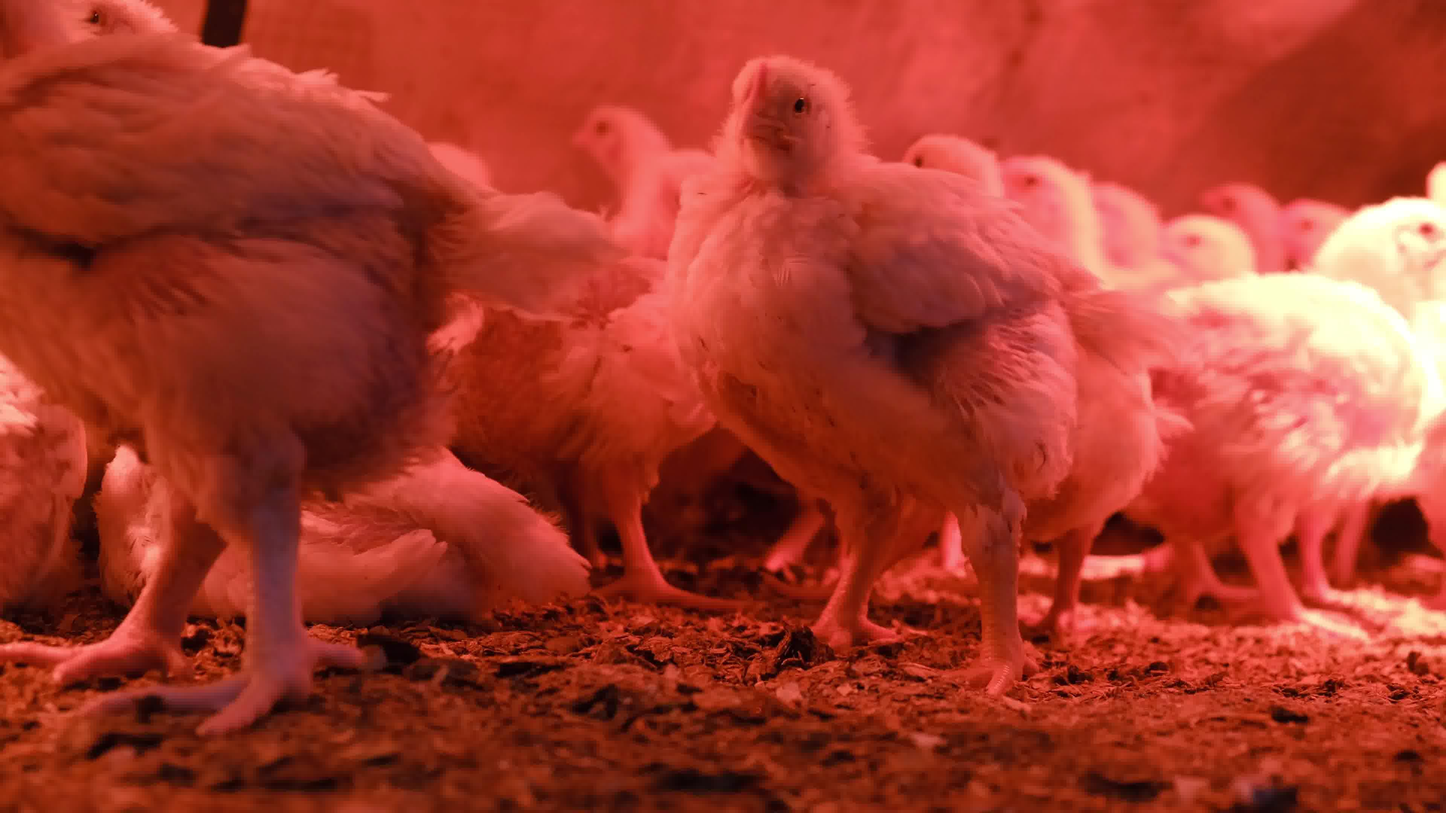AbNormal: (53, 418, 599, 661), (0, 299, 134, 719)
Normal: (0, 0, 471, 736), (678, 32, 1094, 689), (437, 169, 747, 634), (1186, 175, 1446, 621), (1000, 154, 1152, 367), (548, 68, 693, 216), (887, 105, 1024, 247), (1086, 169, 1169, 335), (1175, 203, 1280, 327), (1271, 158, 1346, 297)
